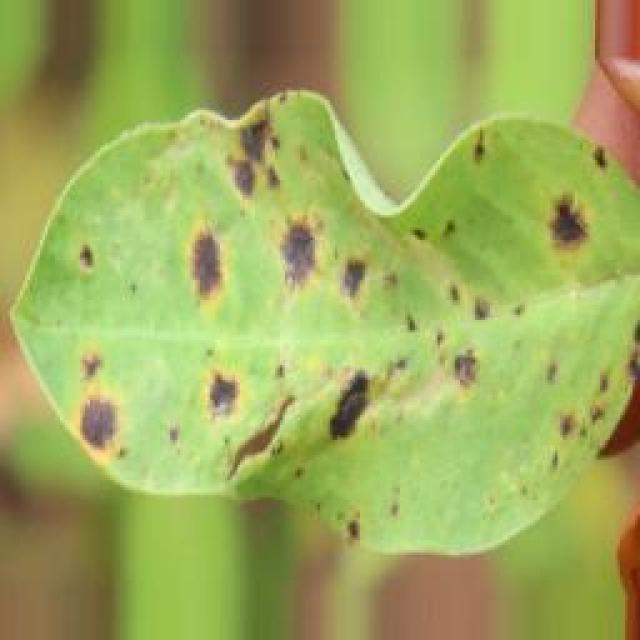Yellowish: (0, 30, 626, 564)
